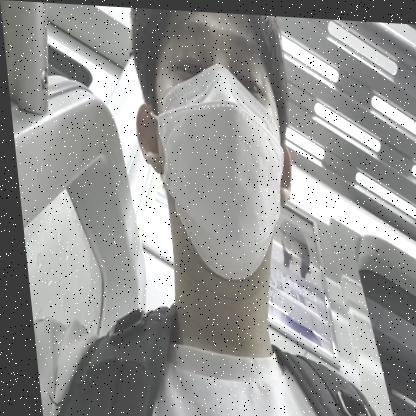streamer: (0, 0, 381, 416)
